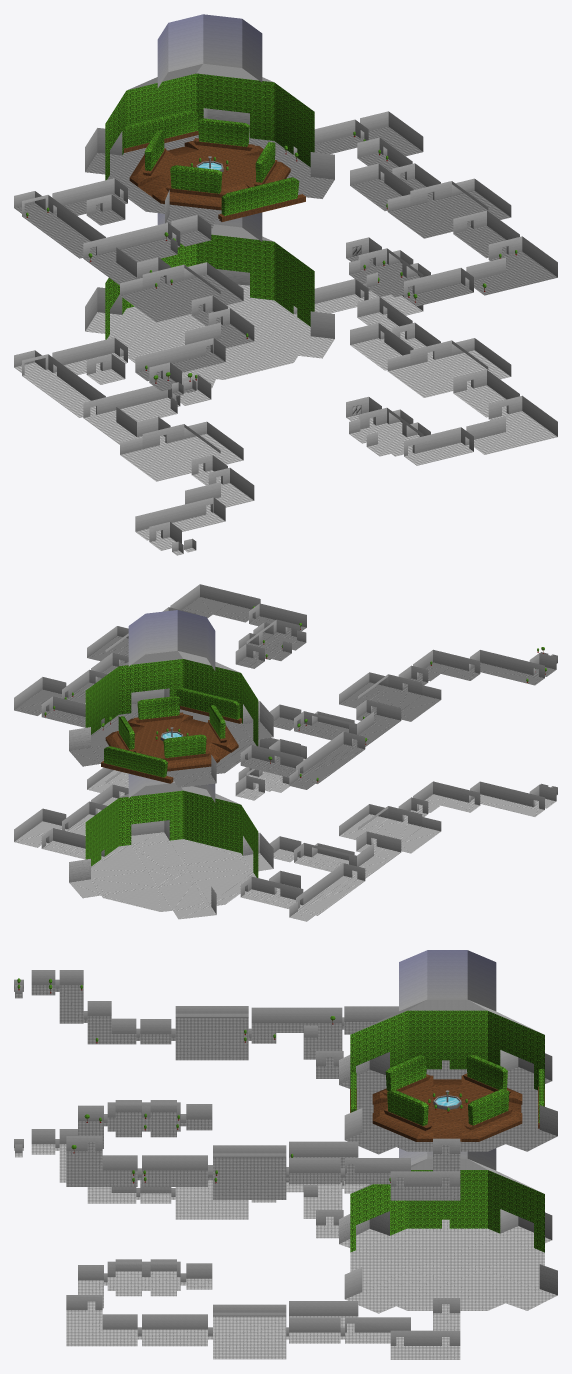
Rendered from level_3_model.glb.
3 views of the same model, one above another, from view 1: azimuth 30°, elevation 25°; view 2: azimuth 150°, elevation 25°; view 3: azimuth 270°, elevation 25° (orthographic). The views are drawn at different scales.
Parts seen in each view (by area): view 1: Cube-col, Cube-col.007, Cube-col.004, Cube-col.005, Cylinder-col, Cube-col.001, Cube-col.002; view 2: Cube-col, Cube-col.007, Cube-col.004, Cube-col.005, Cylinder-col, Cube-col.001, Cube-col.002; view 3: Cube-col, Cube-col.004, Cube-col.007, Cube-col.005, Cylinder-col, Cube-col.001, Cube-col.002.
Boxes of the visible parts, x1,y1,x2,y2 form: Cube-col: (14,212,557,555); Cube-col.007: (14,14,557,394); Cube-col.004: (14,126,557,396); Cube-col.005: (105,73,314,180); Cylinder-col: (129,141,290,210); Cube-col.001: (143,118,277,197); Cube-col.002: (124,110,305,221); Cube-col: (14,737,557,921); Cube-col.007: (14,584,557,785); Cube-col.004: (14,597,557,789); Cube-col.005: (85,659,258,746); Cylinder-col: (105,714,238,771); Cube-col.001: (117,696,226,760); Cube-col.002: (101,688,241,783); Cube-col: (14,1129,557,1359); Cube-col.004: (14,985,557,1200); Cube-col.007: (14,950,557,1186); Cube-col.005: (350,1010,544,1090); Cylinder-col: (372,1075,522,1141); Cube-col.001: (382,1055,512,1130); Cube-col.002: (350,1069,544,1128).
Size of the model in its own units: 145 by 93.91 by 155.
9 materials, 8 textured.
